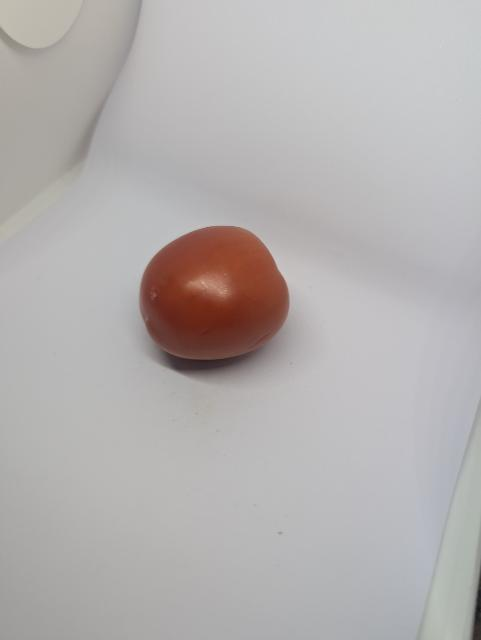red: (118, 201, 315, 387)
